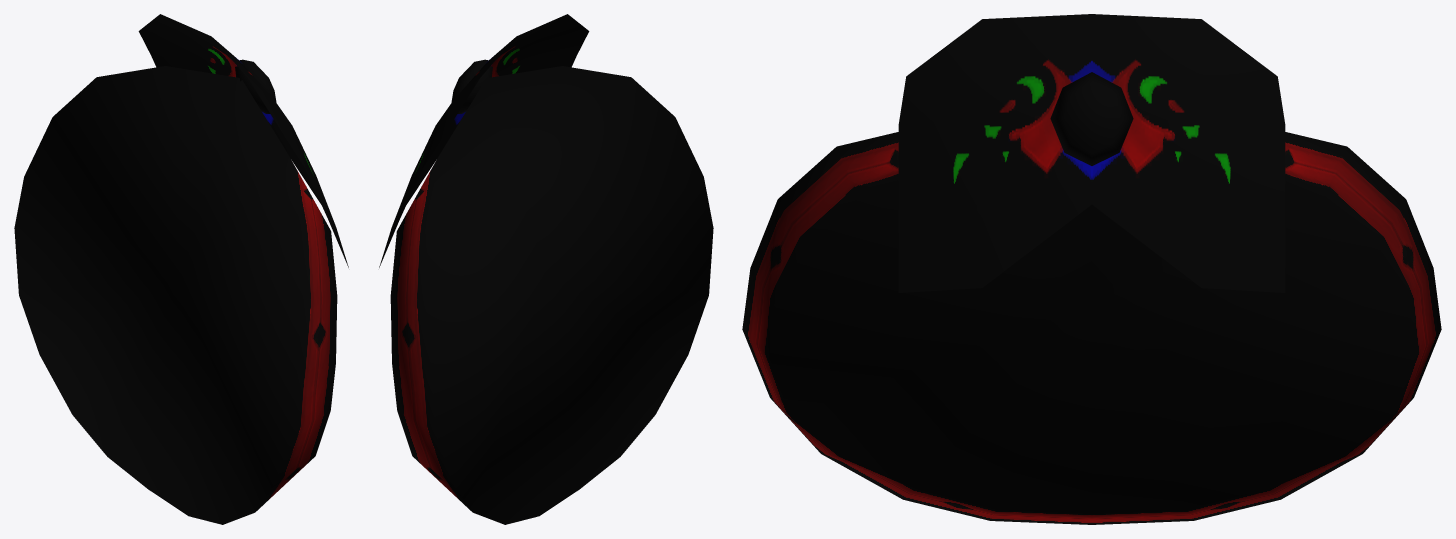
The picture shows the model from 3 angles, left to right: view 1: azimuth 30°, elevation 25°; view 2: azimuth 150°, elevation 25°; view 3: azimuth 270°, elevation 25°; orthographic projection. The views are drawn at different scales.
Parts seen in each view (by area): view 1: F1231; view 2: F1231; view 3: F1231.
Part boxes in pixels (box(x1,y1,x2,y2)): F1231: box(14, 14, 348, 524); F1231: box(379, 14, 713, 524); F1231: box(742, 14, 1441, 524).
Bounding box in the file's own units: 0.1612 × 0.4636 × 0.5345.
